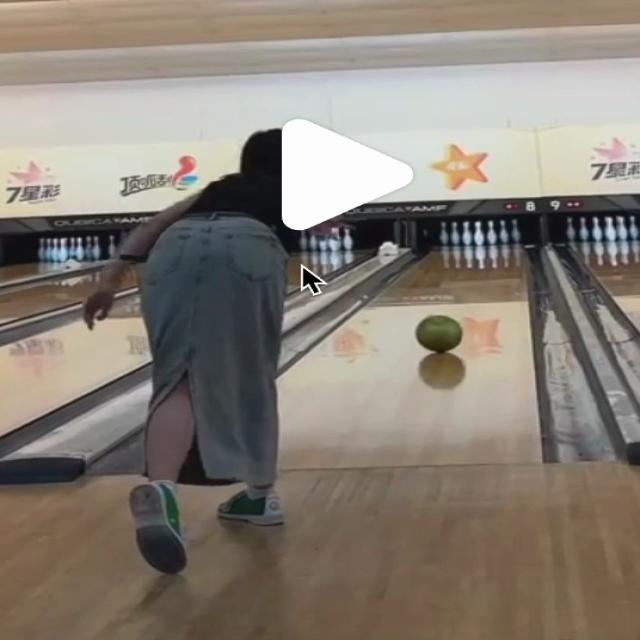alley: (279, 248, 539, 470)
balls: (416, 316, 460, 353)
bottle: (439, 219, 518, 246)
